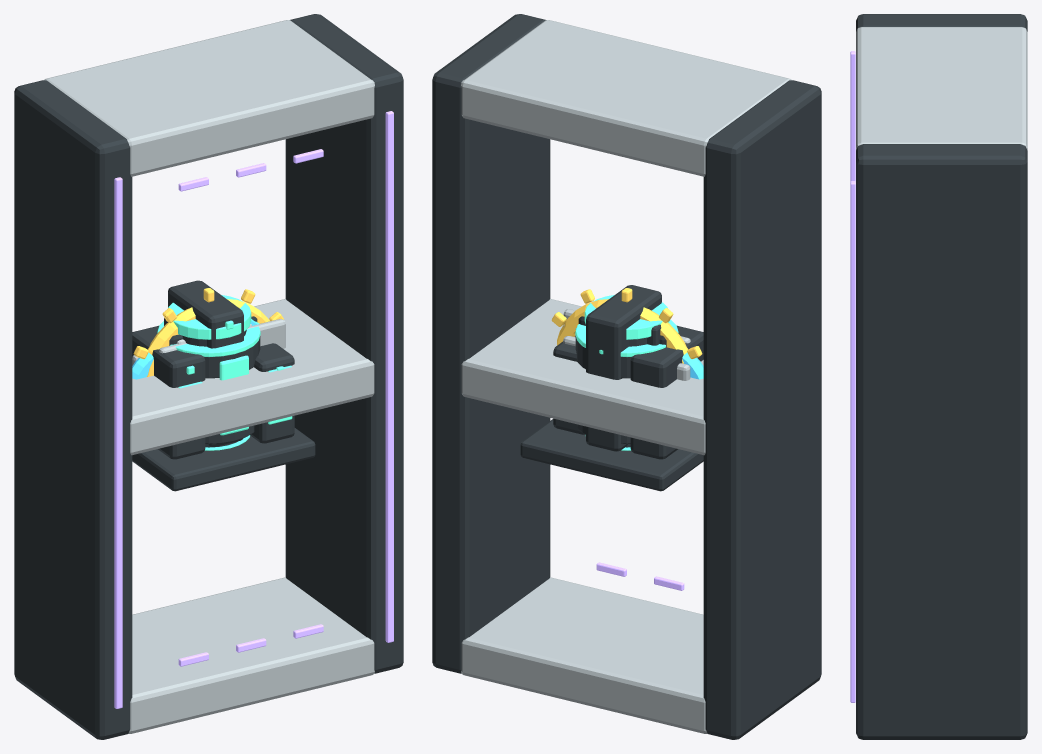
The model's file is edc-journey.glb.
The picture shows the model from 3 angles, left to right: view 1: azimuth 30°, elevation 25°; view 2: azimuth 150°, elevation 25°; view 3: azimuth 270°, elevation 25°; orthographic projection.
Visible parts, largest first — view 1: ConsumerEDC_Mesh, CompanyA_System_Mesh, Artifact_Source_Mesh, Artifact_Agreement_Mesh, Artifact_Payload_Mesh, Artifact_Offer_Mesh; view 2: ConsumerEDC_Mesh, CompanyA_System_Mesh, Artifact_Agreement_Mesh, Artifact_Source_Mesh, Artifact_Payload_Mesh; view 3: ConsumerEDC_Mesh.
Boxes of the visible parts, x1,y1,x2,y2 form: ConsumerEDC_Mesh: (14,14,403,739); CompanyA_System_Mesh: (132,280,315,491); Artifact_Source_Mesh: (157,321,260,443); Artifact_Agreement_Mesh: (133,288,283,376); Artifact_Payload_Mesh: (168,295,251,450); Artifact_Offer_Mesh: (132,319,285,365); ConsumerEDC_Mesh: (432,14,821,739); CompanyA_System_Mesh: (520,285,703,491); Artifact_Agreement_Mesh: (551,288,702,363); Artifact_Source_Mesh: (575,319,678,443); Artifact_Payload_Mesh: (584,295,668,450); ConsumerEDC_Mesh: (850,14,1027,739).
Bounding box in the file's own units: 1.18 × 2.18 × 0.599.
